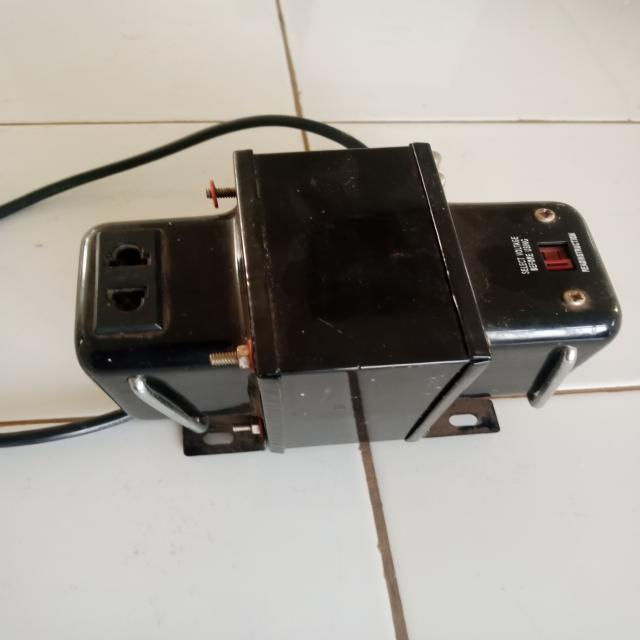Stepdown Transformer: (57, 137, 640, 457)
